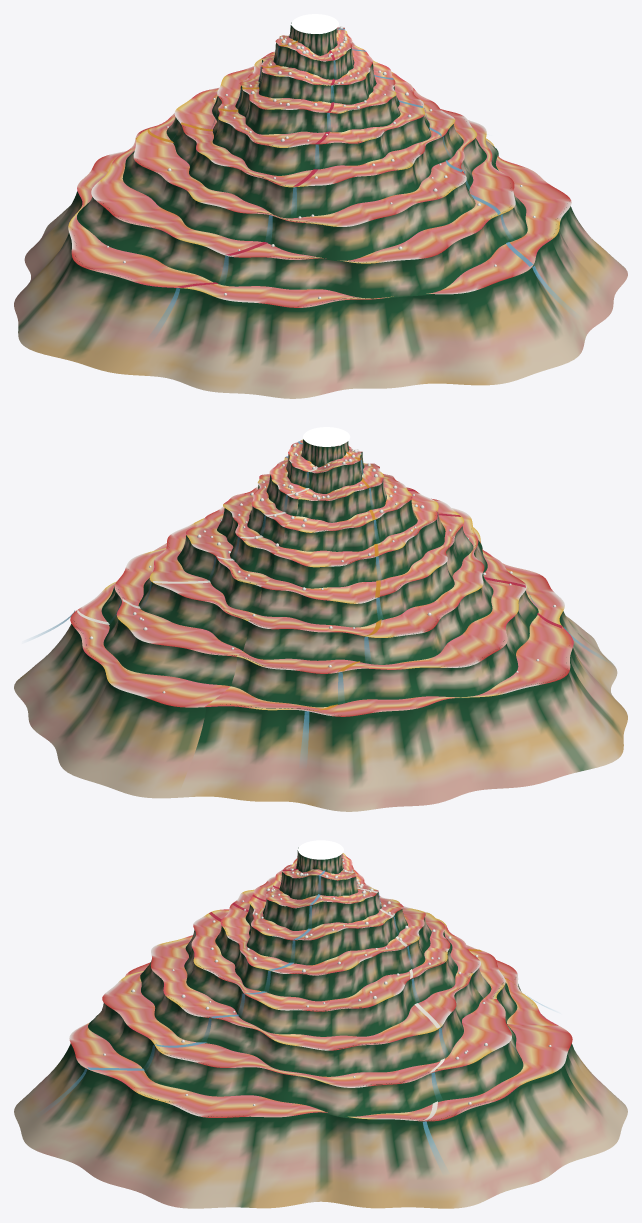
Rendered from ZB_dunya_derece_koni.glb.
3 views of the same model, one above another, from view 1: azimuth 30°, elevation 25°; view 2: azimuth 150°, elevation 25°; view 3: azimuth 270°, elevation 25° (orthographic). The views are drawn at different scales.
Visible parts, largest first — view 1: duvarlar, sekiler, selaleler, irmaklar, zirve, koskler; view 2: duvarlar, sekiler, selaleler, irmaklar, koskler, zirve; view 3: duvarlar, sekiler, selaleler, irmaklar, koskler, zirve.
Boxes of the visible parts, left/top/right/bottom form: duvarlar: left=14, top=22, right=627, bottom=398; sekiler: left=68, top=27, right=571, bottom=307; selaleler: left=153, top=46, right=570, bottom=331; irmaklar: left=135, top=28, right=533, bottom=287; zirve: left=291, top=14, right=338, bottom=33; koskler: left=106, top=26, right=535, bottom=298; duvarlar: left=14, top=439, right=627, bottom=811; sekiler: left=70, top=439, right=573, bottom=716; selaleler: left=33, top=460, right=603, bottom=758; irmaklar: left=77, top=441, right=562, bottom=710; koskler: left=89, top=443, right=556, bottom=693; zirve: left=303, top=427, right=350, bottom=446; duvarlar: left=14, top=847, right=627, bottom=1208; sekiler: left=69, top=853, right=572, bottom=1121; selaleler: left=47, top=872, right=551, bottom=1165; irmaklar: left=87, top=868, right=517, bottom=1120; koskler: left=103, top=859, right=551, bottom=1105; zirve: left=298, top=840, right=343, bottom=859.
Bounding box in the file's own units: 2525 × 1144 × 2583.
